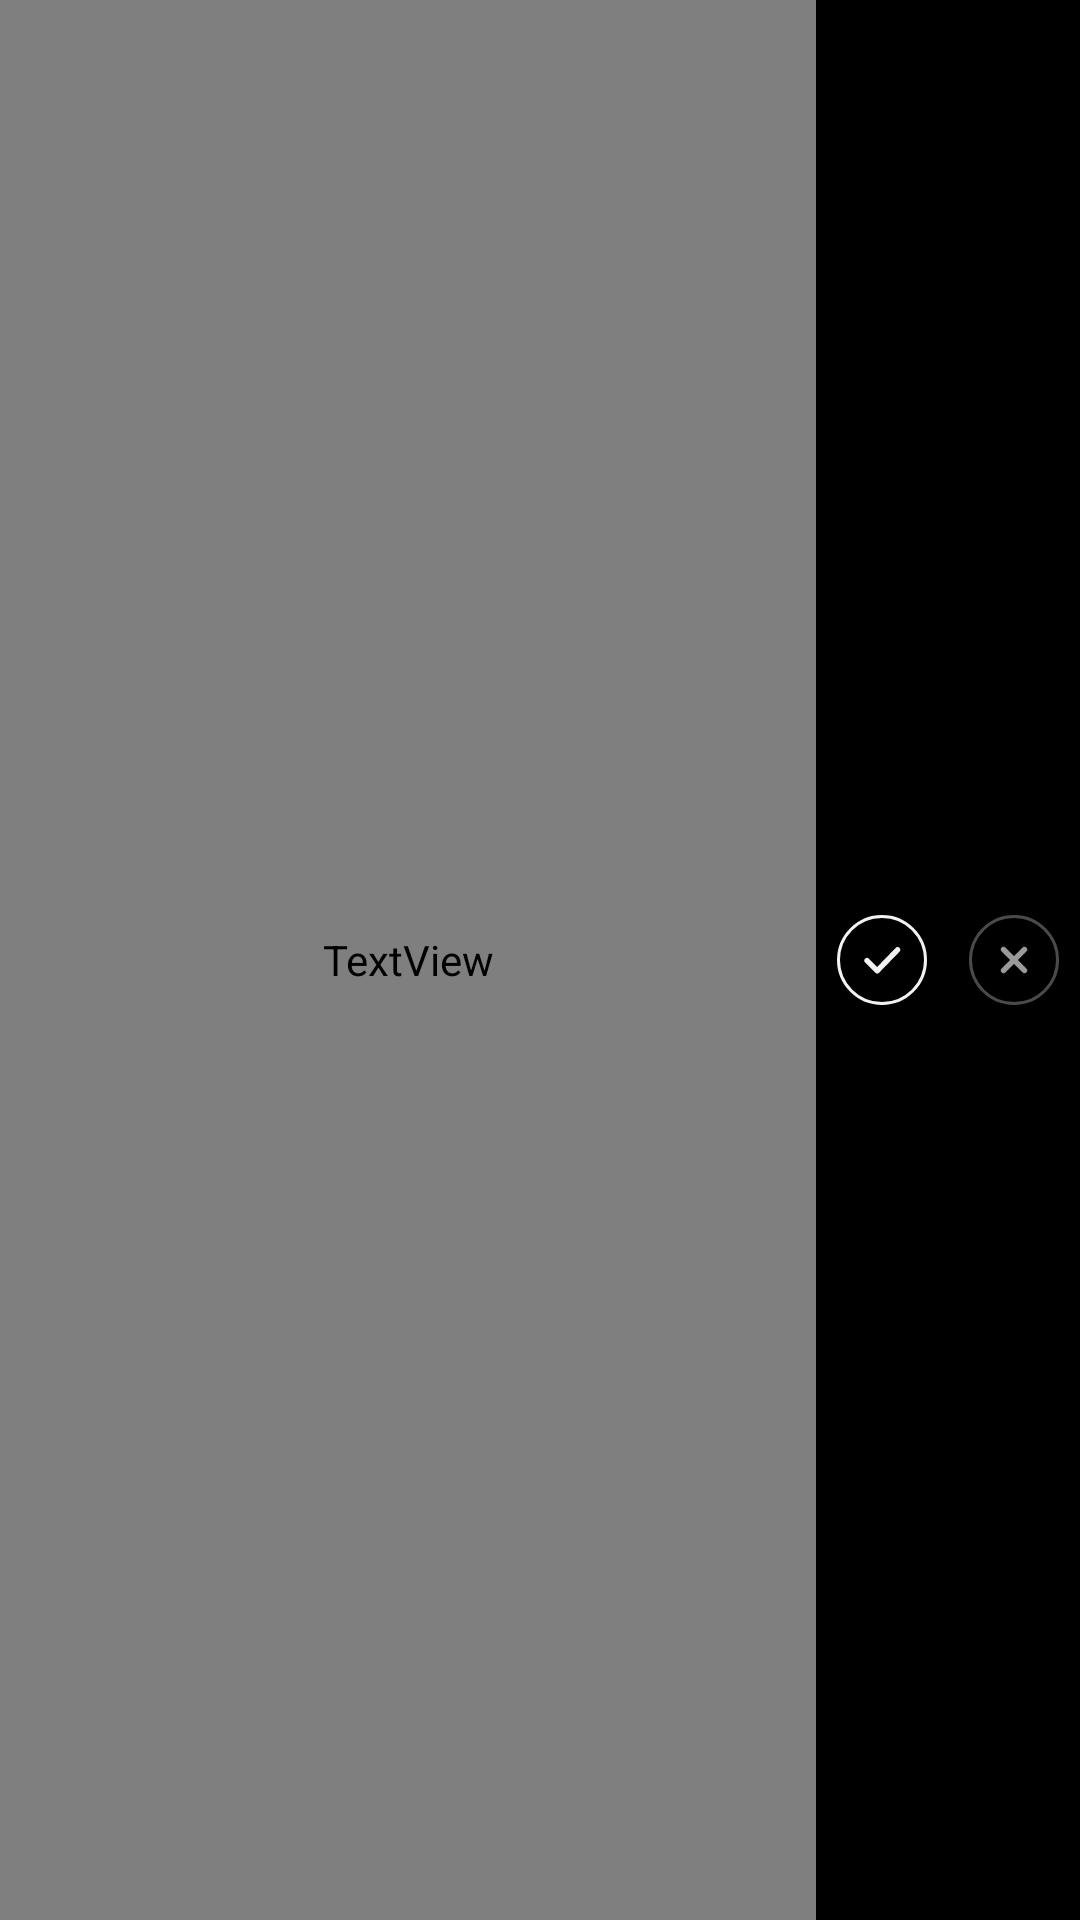

Icons on this 1080x1920 Android screen, each with its box as (x1, y1, x2, y2):
check: (837, 915, 927, 1005)
cross: (969, 915, 1059, 1005)
